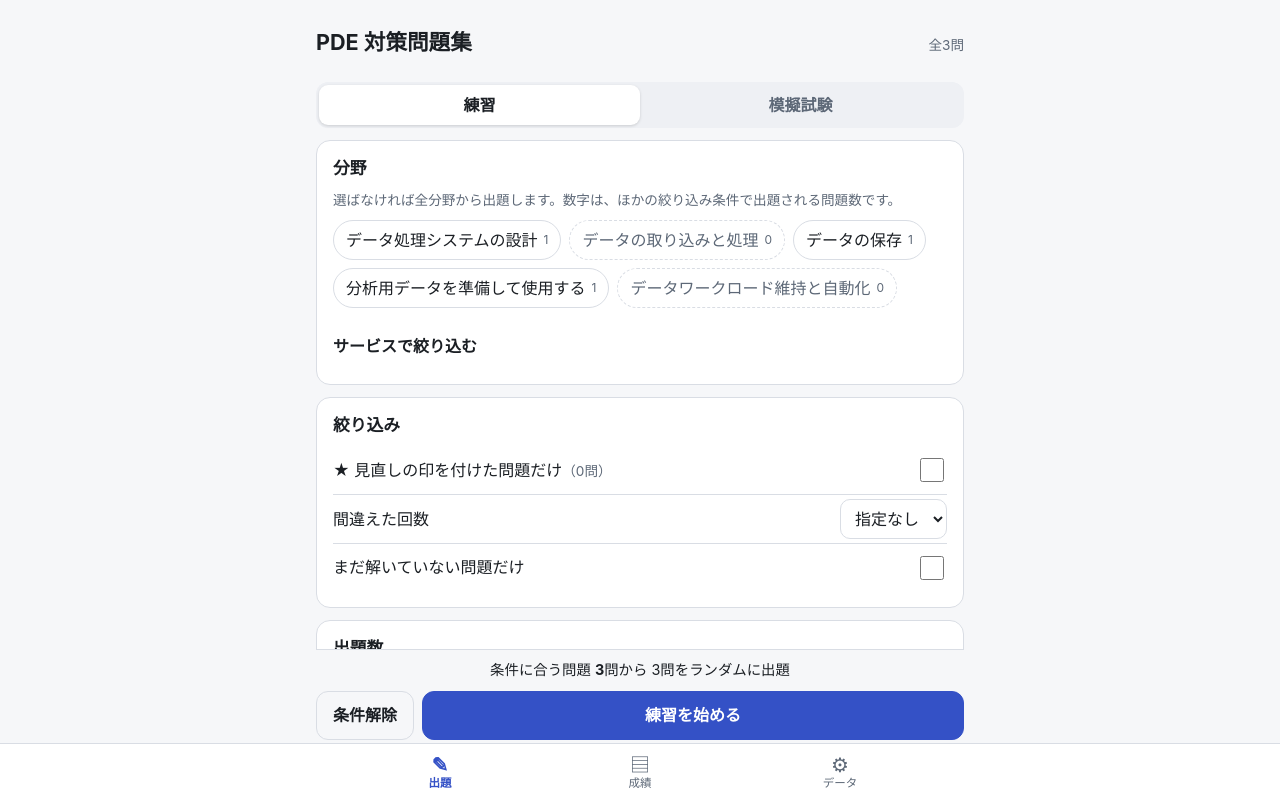
Scenario: 問題のコピー › ボタン1つで、画面に表示中の問題文と選択肢をコピーし、完了を知らせる
What coordinates should you click on to do the following:
click the button "練習を始める"
I would click on:
 (693, 715)
Its box is top-left (422, 691), bottom-right (964, 740).
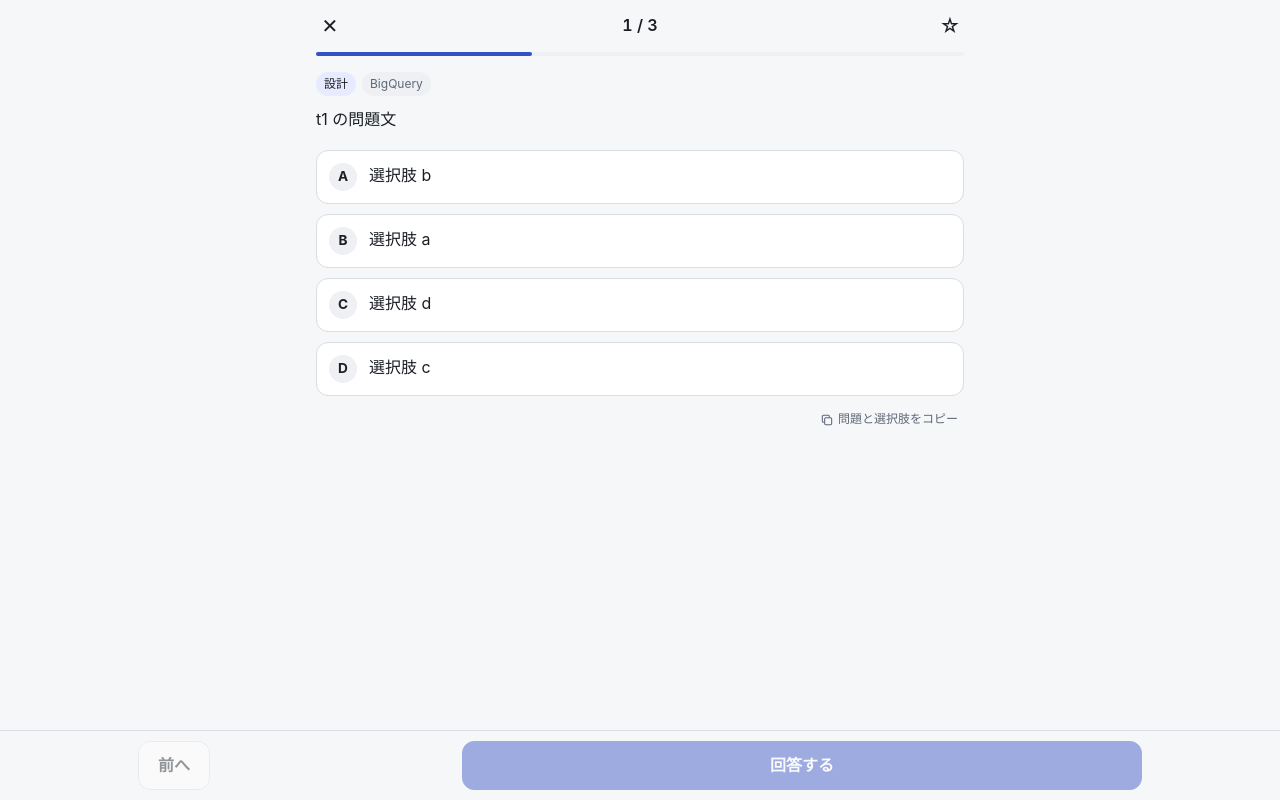
What coordinates should you click on to do the following:
click the button "問題と選択肢をコピー"
I would click on:
 (889, 420)
Its box is top-left (814, 404), bottom-right (964, 436).
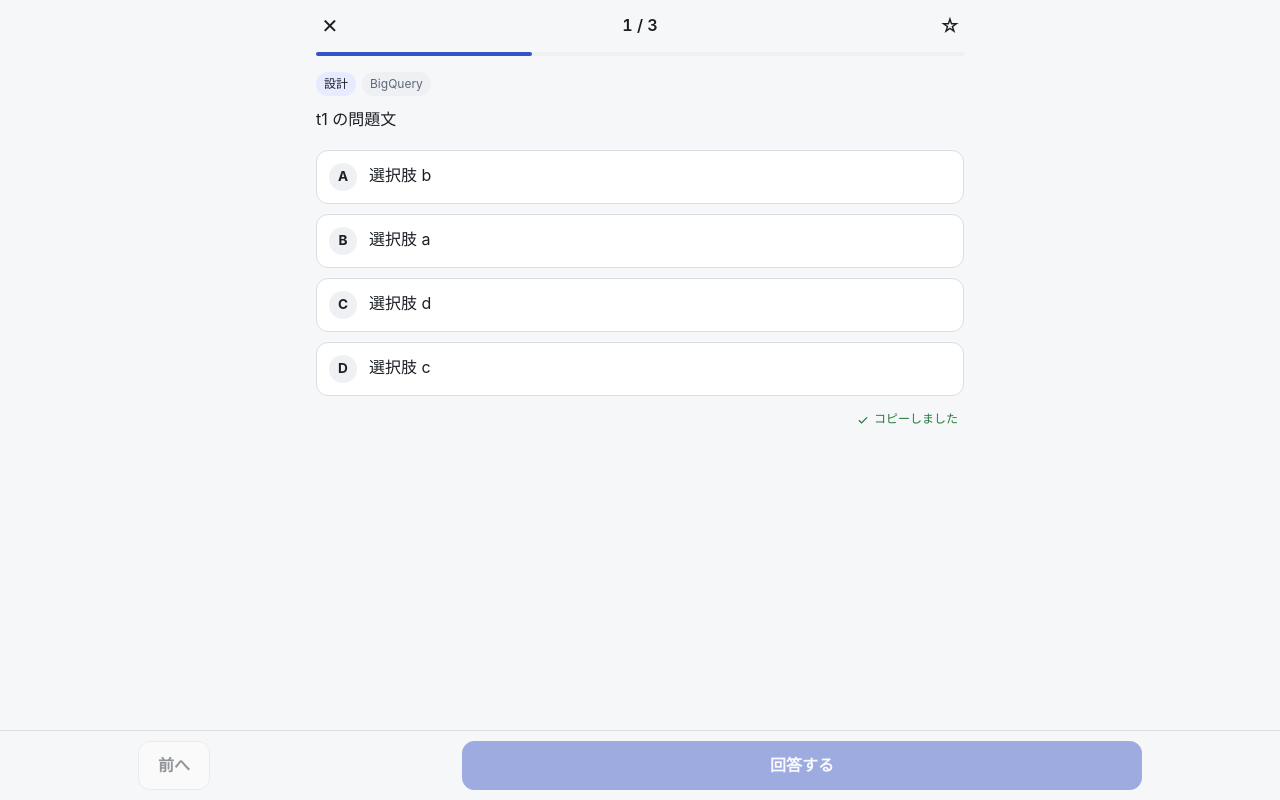
Check: the button "コピーしました" is shown, box top-left (850, 404), bottom-right (964, 436)
